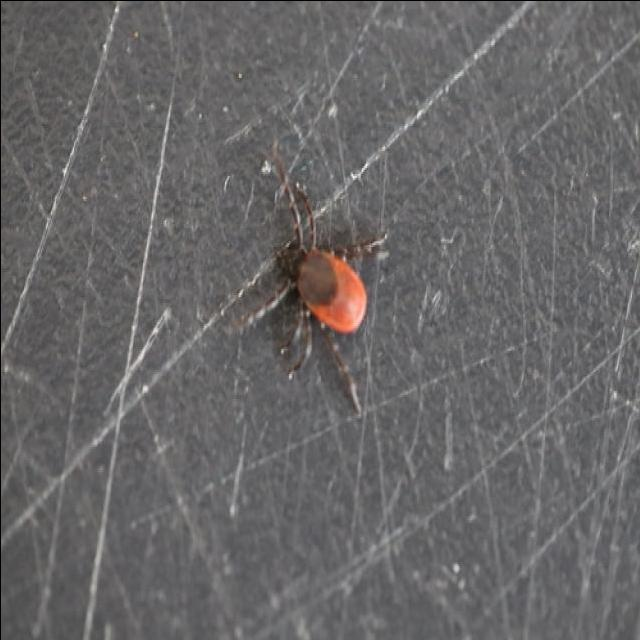Ixodes Ricinus-F: (201, 140, 387, 415)
